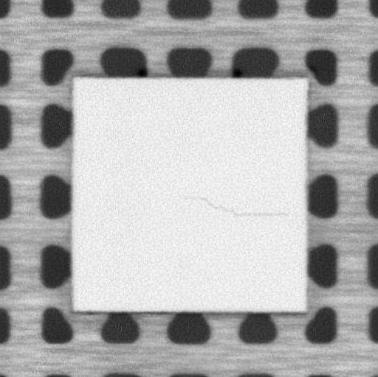DIE_CRACK: (190, 195, 290, 218)
